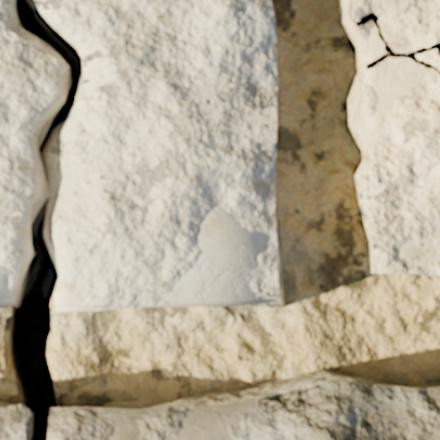brick: (340, 0, 439, 276), (353, 0, 439, 53), (418, 51, 439, 68)
broken_brick: (35, 0, 285, 313), (49, 369, 439, 439), (0, 0, 65, 288), (0, 401, 31, 439), (0, 293, 14, 308)
crack: (0, 0, 84, 439), (350, 0, 439, 75)
